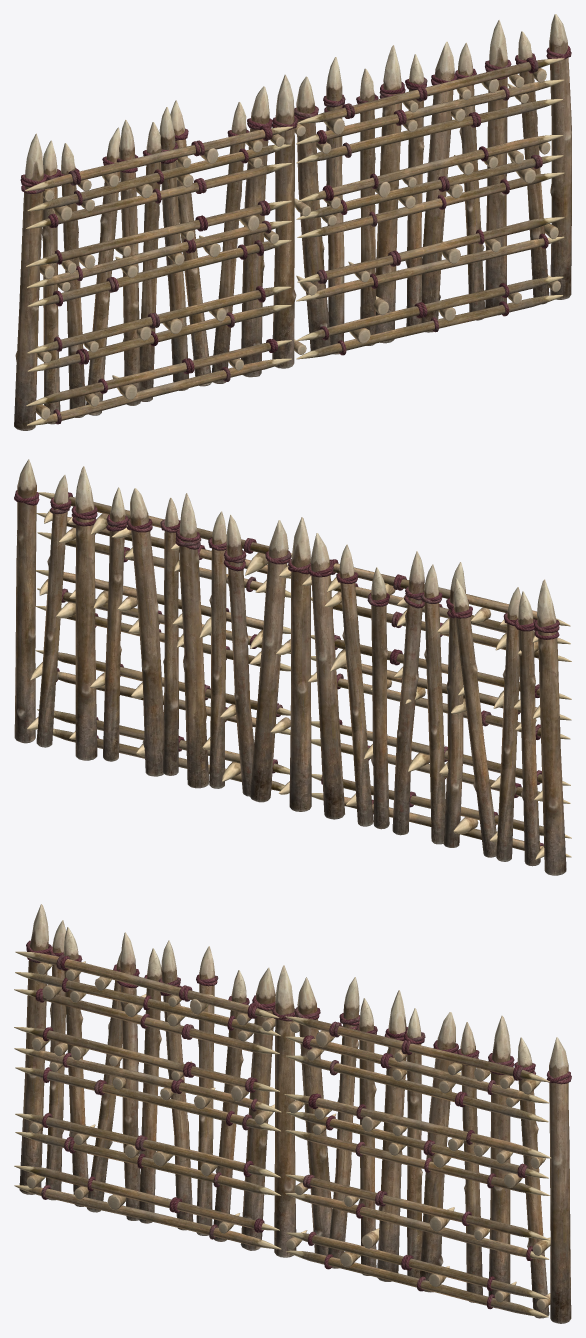
3 renders of one model, top to bottom at view 1: azimuth 30°, elevation 25°; view 2: azimuth 150°, elevation 25°; view 3: azimuth 330°, elevation 25°, orthographic.
Visible parts, largest first — view 1: SM_Garou_Set_SM_SpikeFence_04_4x8_LOD0; view 2: SM_Garou_Set_SM_SpikeFence_04_4x8_LOD0; view 3: SM_Garou_Set_SM_SpikeFence_04_4x8_LOD0.
Boxes of the visible parts, box(x1,y1,x2,y2) form: SM_Garou_Set_SM_SpikeFence_04_4x8_LOD0: box(14, 14, 571, 430); SM_Garou_Set_SM_SpikeFence_04_4x8_LOD0: box(14, 459, 571, 875); SM_Garou_Set_SM_SpikeFence_04_4x8_LOD0: box(14, 904, 571, 1323).
Bounding box in the file's own units: 8.06 × 4.08 × 0.7844.
Materials: 2 (2 with a texture image).
